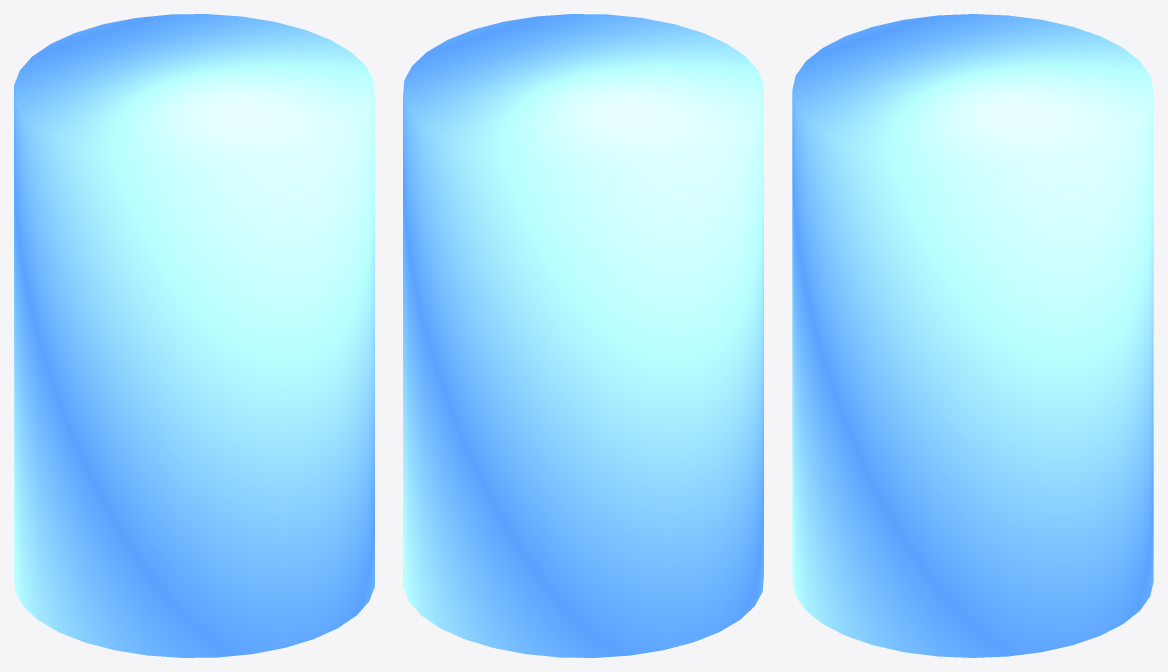
File: teleport.glb
The picture shows the model from 3 angles, left to right: view 1: azimuth 30°, elevation 25°; view 2: azimuth 150°, elevation 25°; view 3: azimuth 270°, elevation 25°; orthographic projection.
Visible parts, largest first — view 1: Cylinder.001; view 2: Cylinder.001; view 3: Cylinder.001.
Part boxes in pixels (x1,y1,x2,y2): Cylinder.001: (14,14,374,657); Cylinder.001: (403,14,763,657); Cylinder.001: (792,14,1153,657).
Bounding box in the file's own units: 1 × 1.5 × 1.
